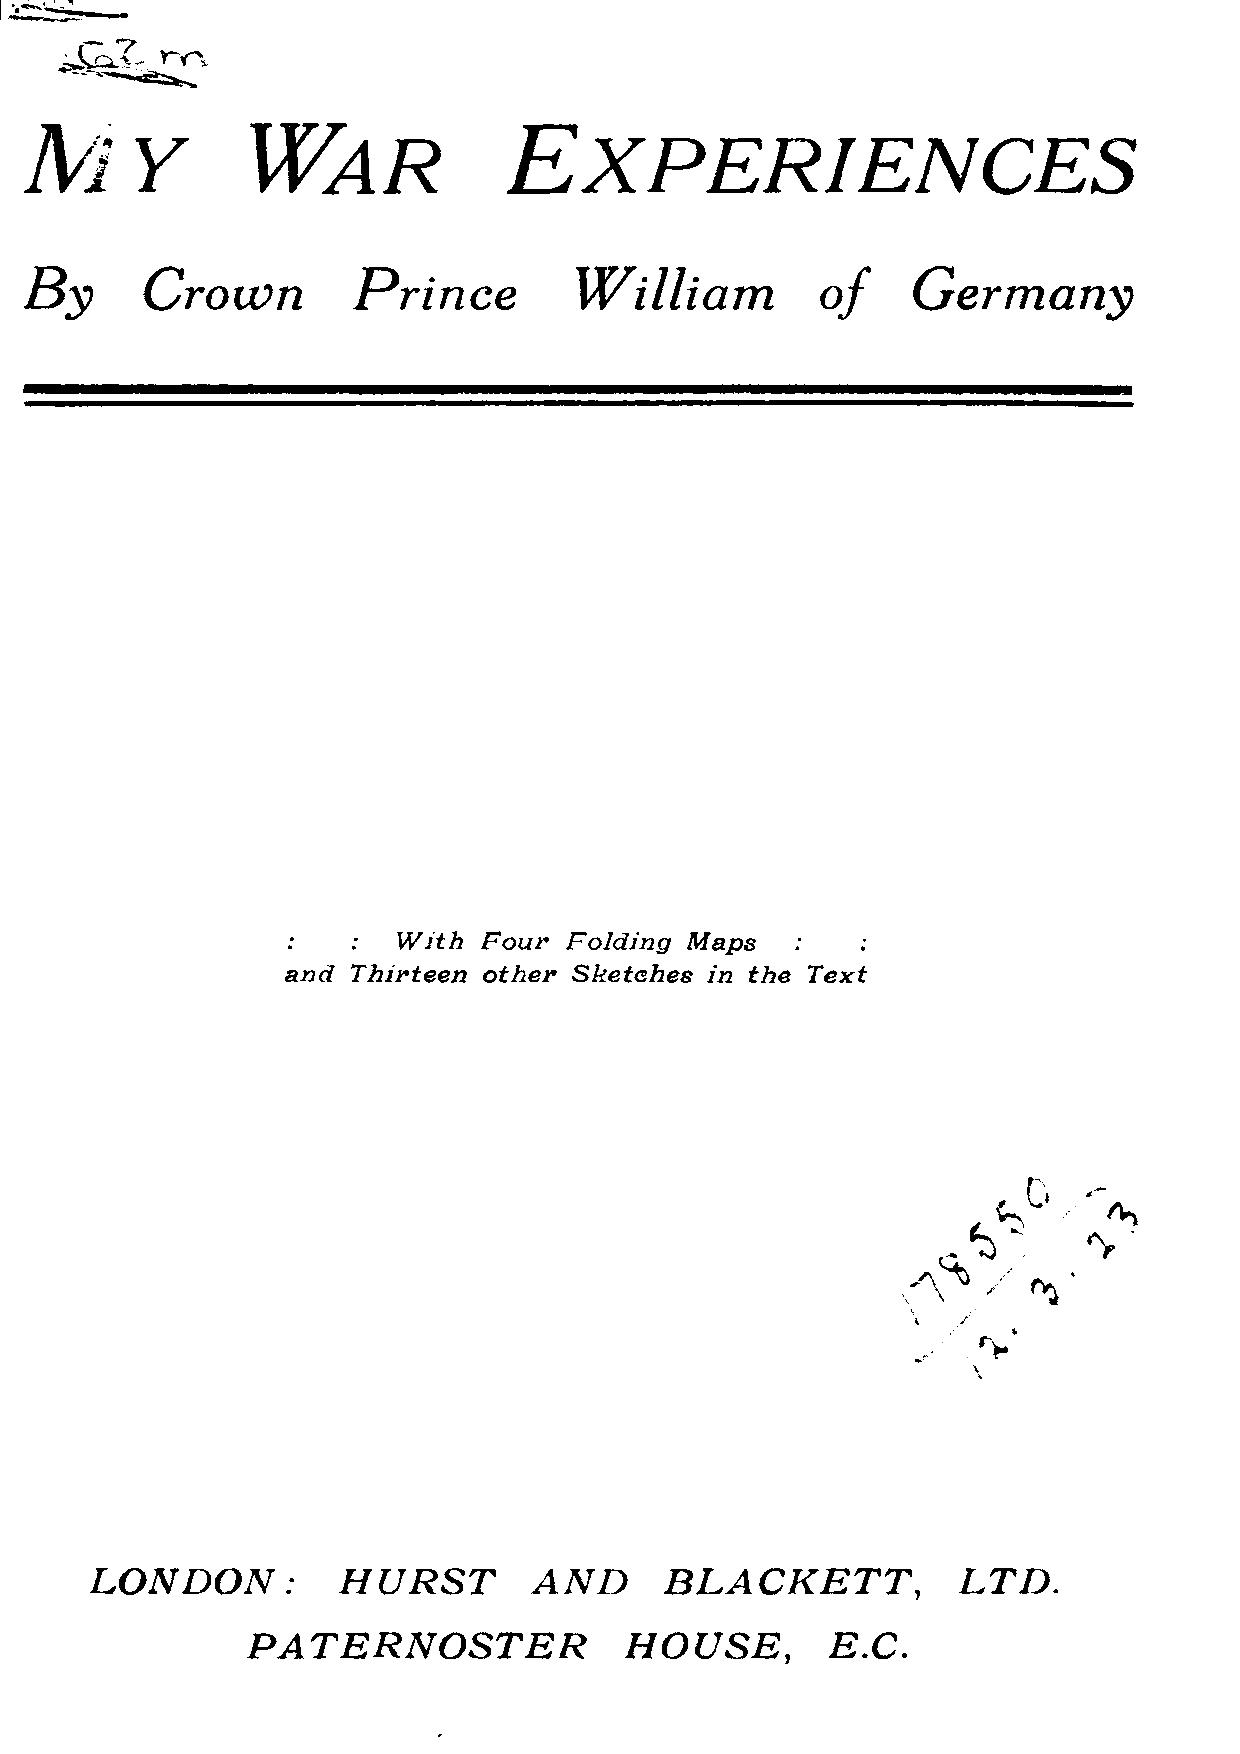author: (17, 263, 1135, 323)
title: (19, 119, 1135, 195)
